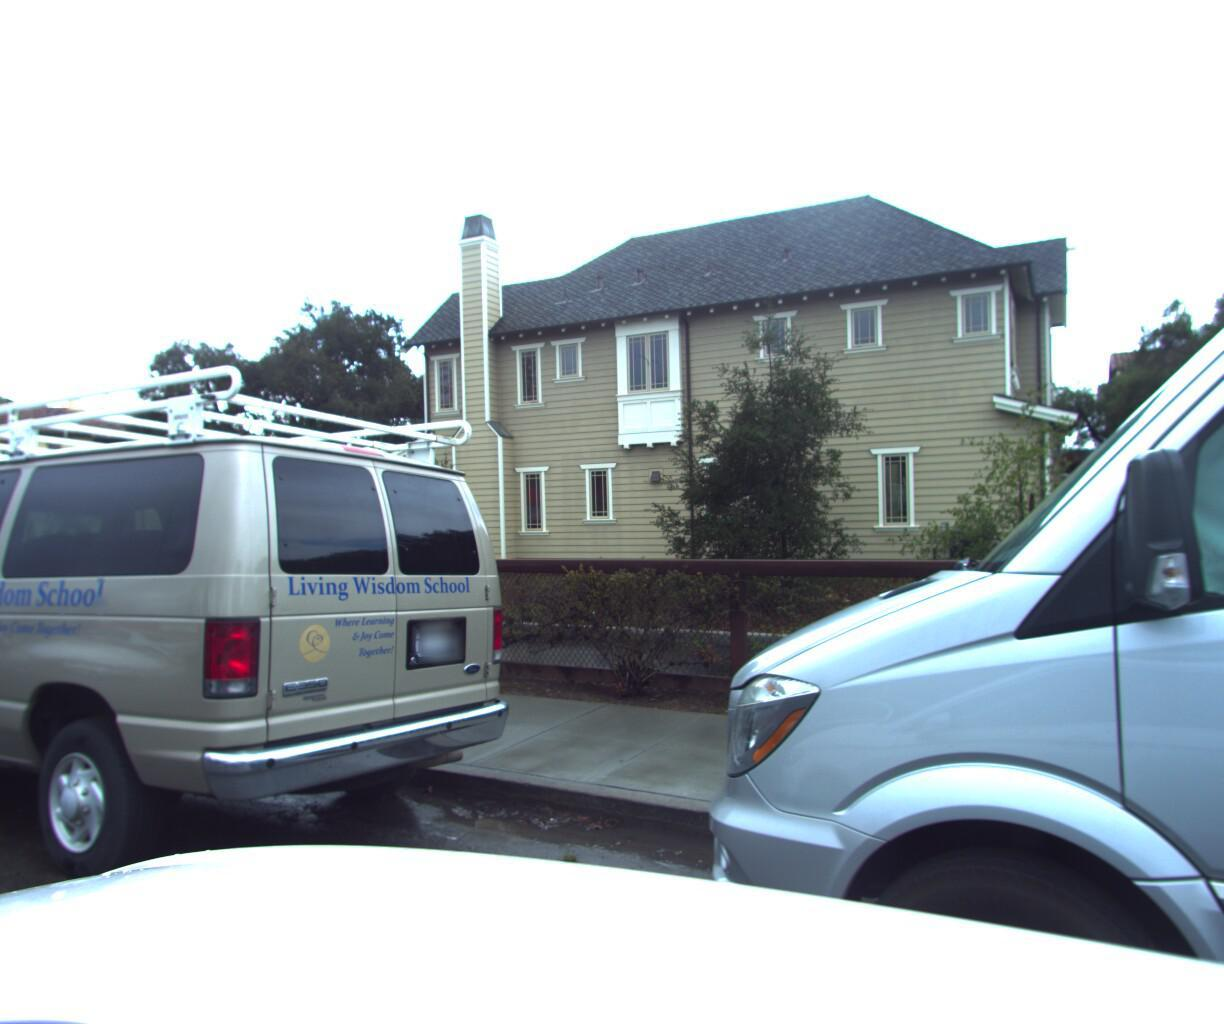car: (0, 409, 542, 977)
